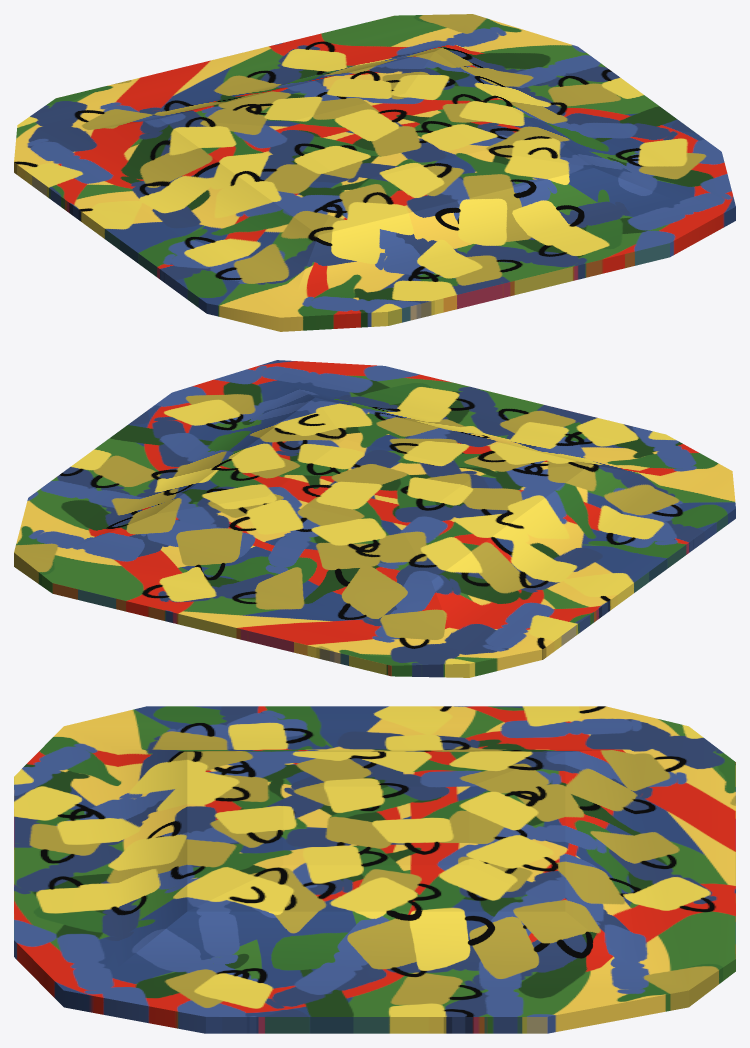
Rendered from Soep.fbx.
3 views of the same model, one above another, from view 1: azimuth 30°, elevation 25°; view 2: azimuth 150°, elevation 25°; view 3: azimuth 270°, elevation 25° (orthographic). The views are drawn at different scales.
Visible parts, largest first — view 1: pCube1; view 2: pCube1; view 3: pCube1.
Part boxes in pixels (box(x1,y1,x2,y2)): pCube1: box(14, 14, 735, 331); pCube1: box(14, 360, 735, 677); pCube1: box(14, 706, 735, 1033).
Size of the model in its own units: 8.81 by 1.24 by 8.59.
